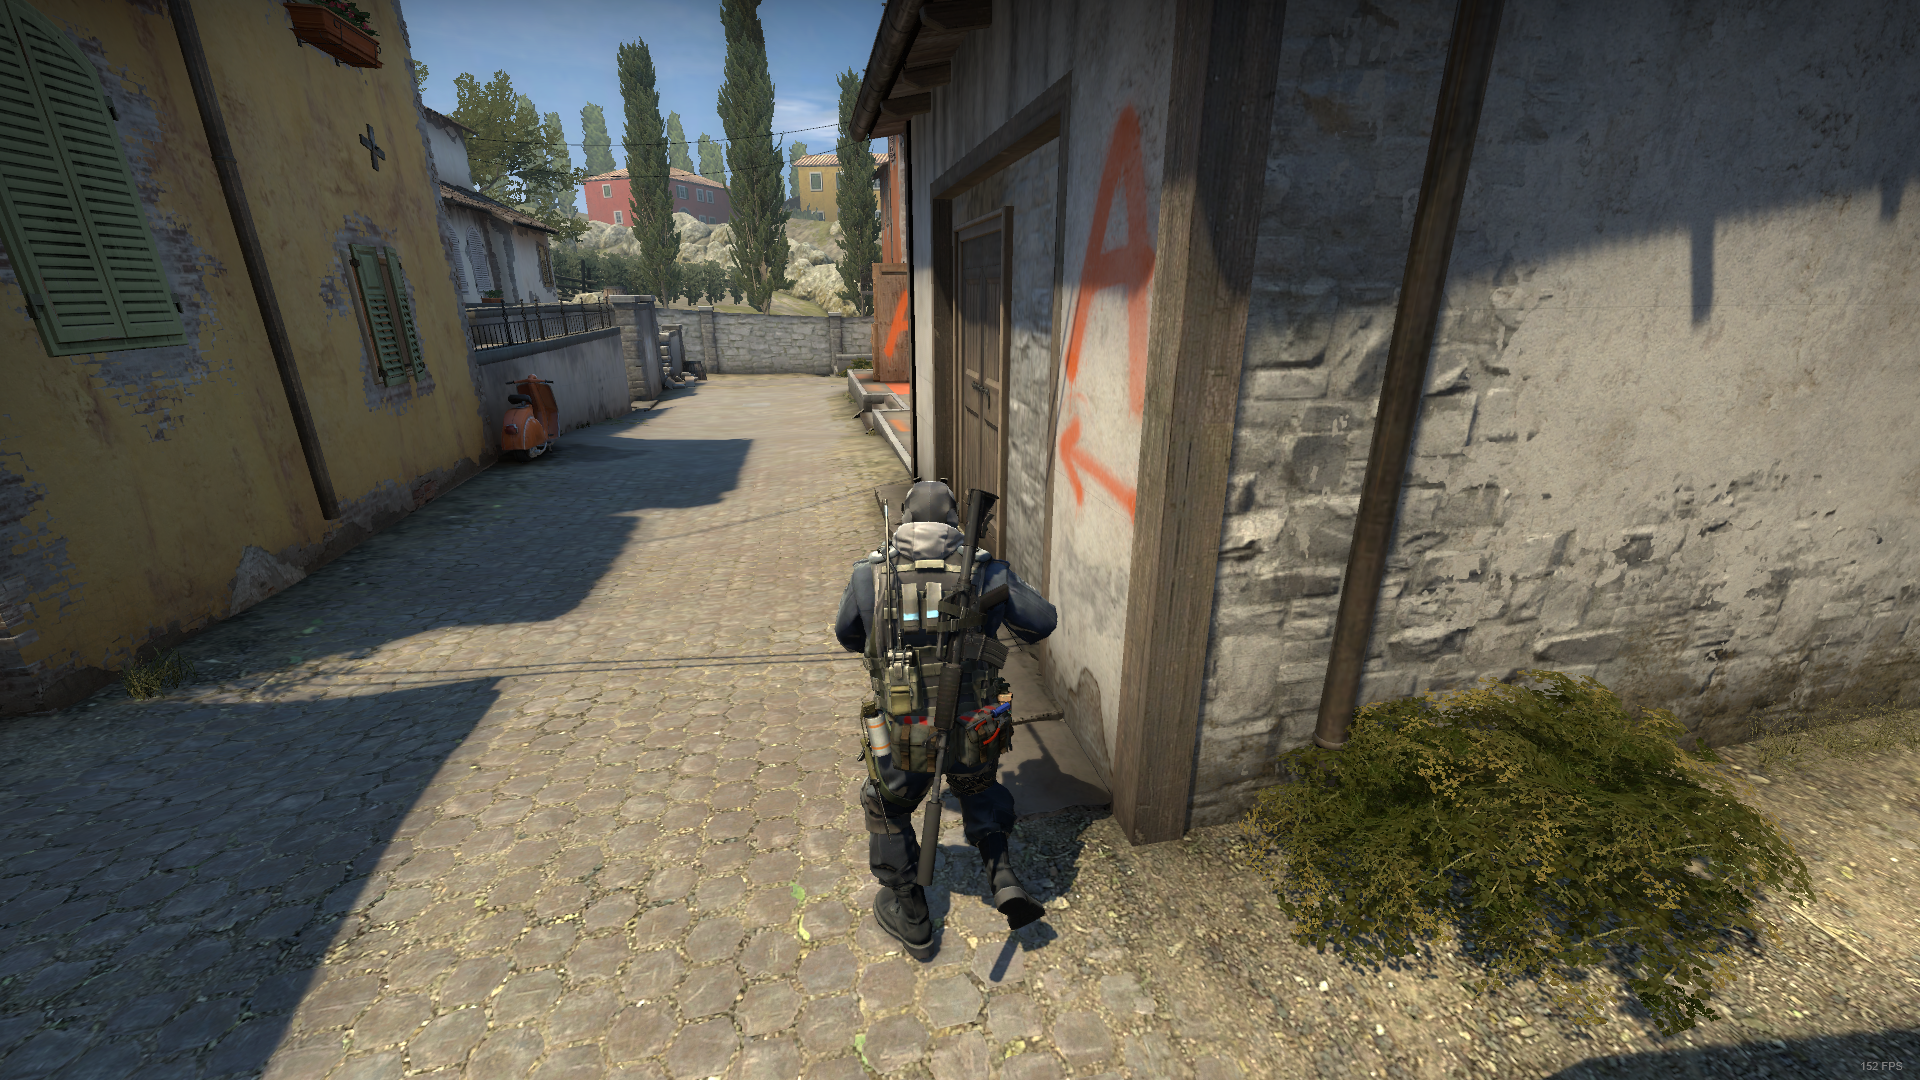ct: (836, 476, 1071, 960)
